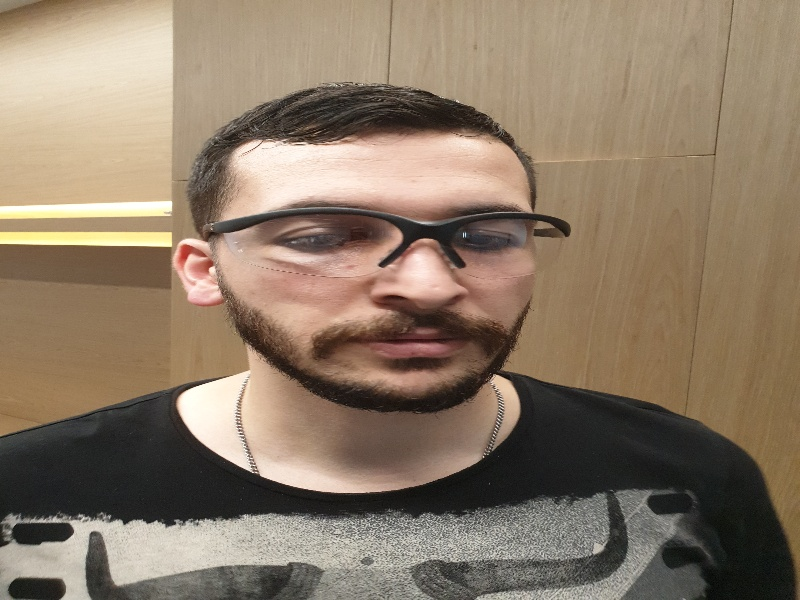Gozluk: (201, 206, 577, 281)
